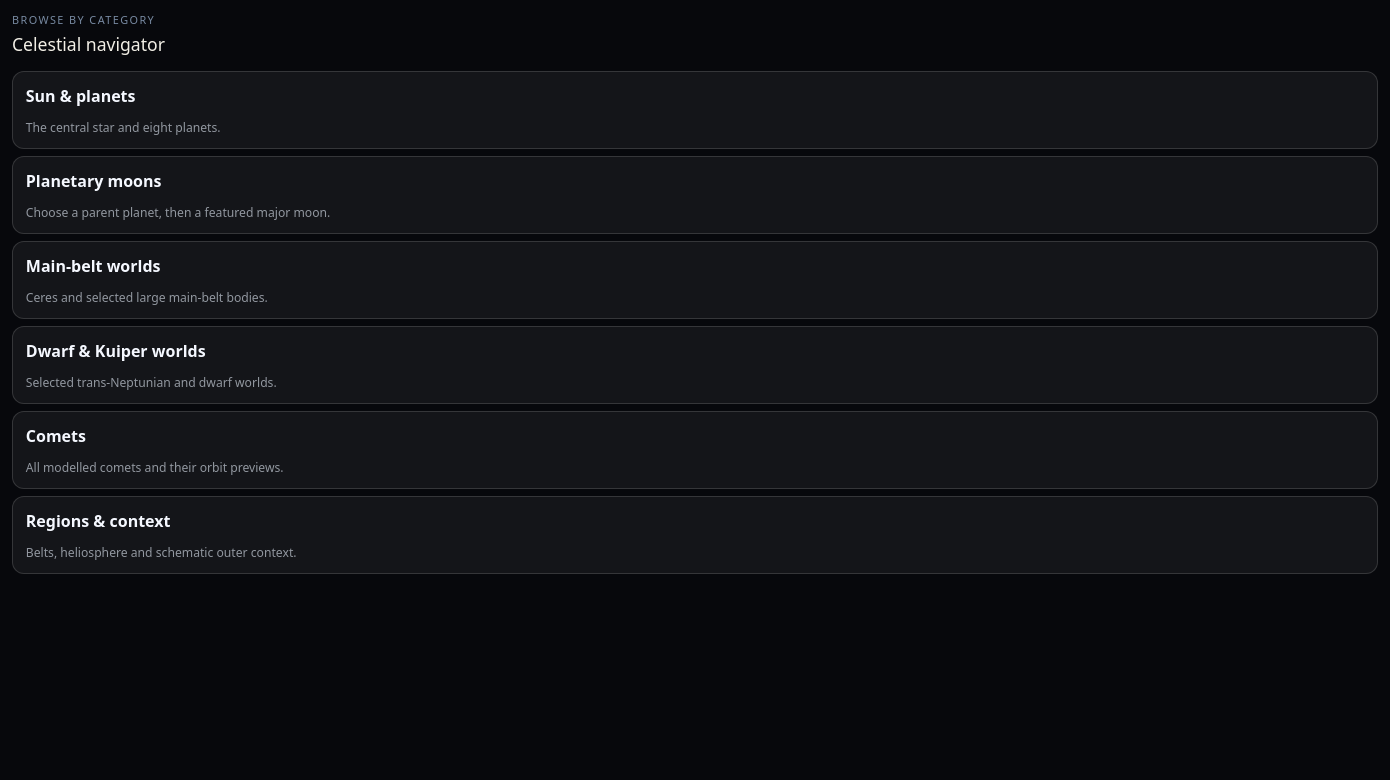
Scenario: CelestialNavigator › drills through Jupiter before exposing only the Galilean featured set
This screenshot has width=1390, height=780.
Click the button "Planetary moons" at (94, 181), box [12,156,1378,234]
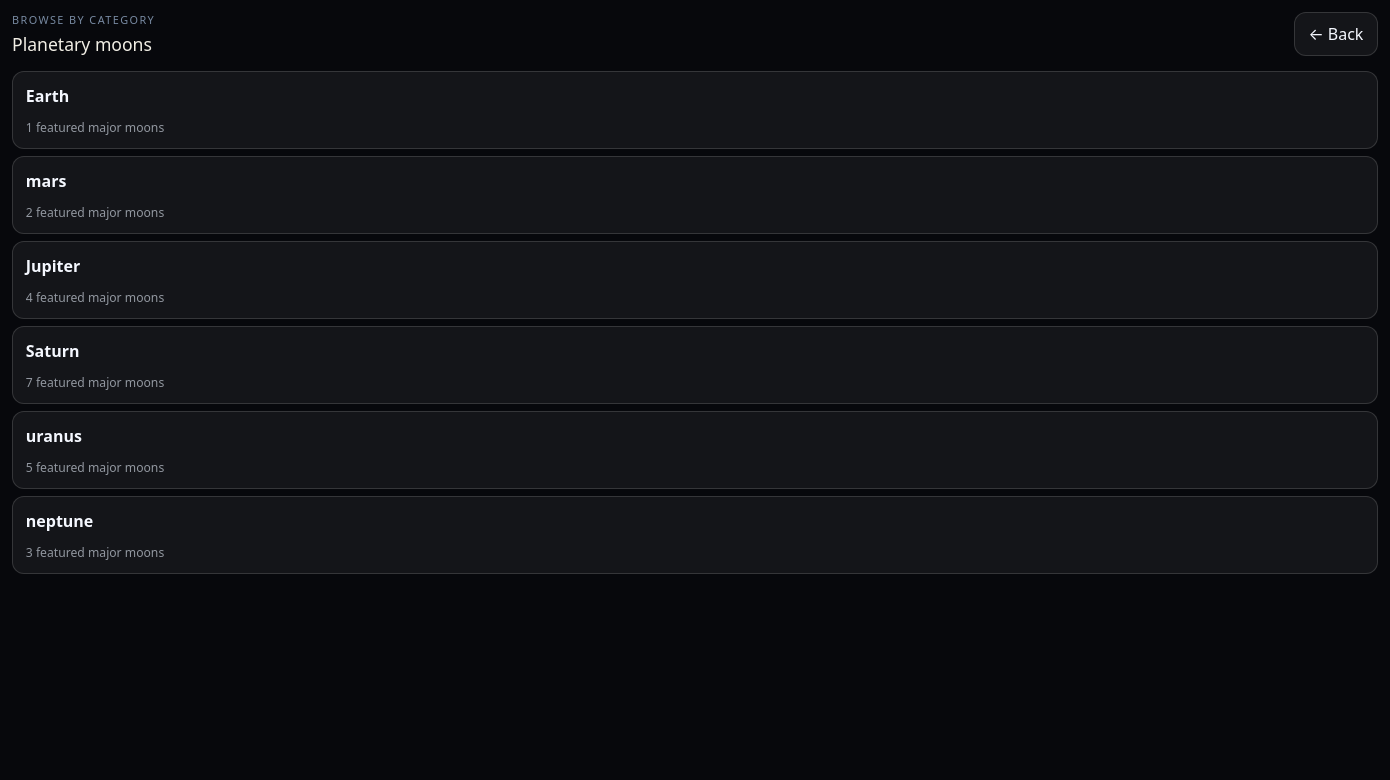
Click the button "Jupiter 4 featured major moons" at (53, 266), box [12,241,1378,319]
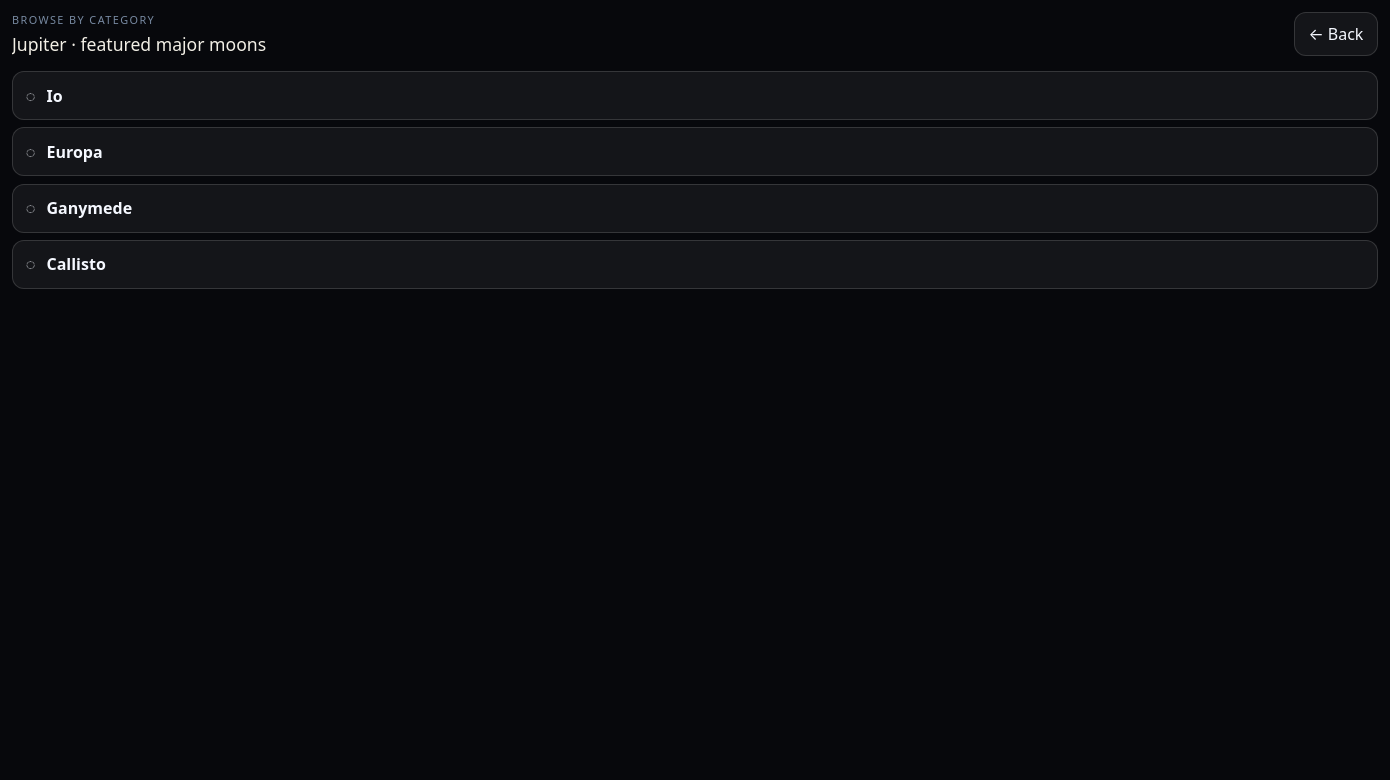
Expected: the button "◌ Io" is shown, [12,71,1378,120]
Expected: the button "◌ Europa" is shown, [12,127,1378,176]
Expected: the button "◌ Ganymede" is shown, [12,184,1378,233]
